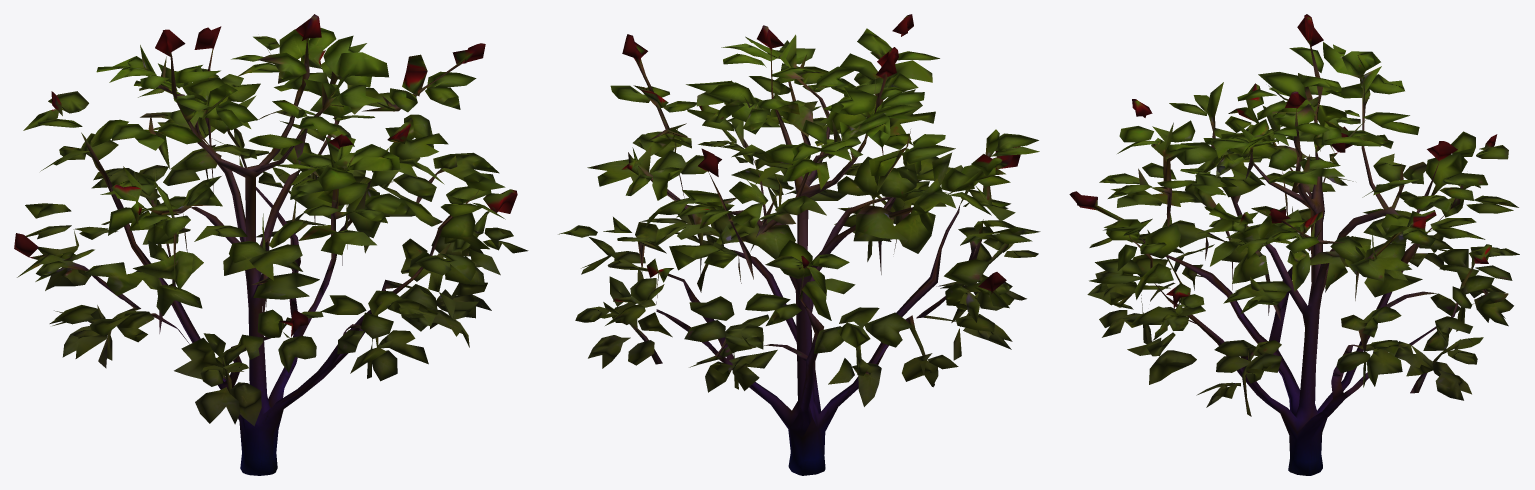
Rendered from environment.hibiscus-shrub-01.lod0.glb.
3 views of the same model, side by side, from view 1: azimuth 30°, elevation 25°; view 2: azimuth 150°, elevation 25°; view 3: azimuth 270°, elevation 25° (orthographic). The views are drawn at different scales.
Visible parts, largest first — view 1: environment.hibiscus-shrub-01_LOD0_00; view 2: environment.hibiscus-shrub-01_LOD0_00; view 3: environment.hibiscus-shrub-01_LOD0_00.
Part boxes in pixels (box(x1,y1,x2,y2)): environment.hibiscus-shrub-01_LOD0_00: box(14, 14, 528, 475); environment.hibiscus-shrub-01_LOD0_00: box(558, 14, 1040, 475); environment.hibiscus-shrub-01_LOD0_00: box(1069, 14, 1519, 475).
Size of the model in its own units: 1.1 by 1.1 by 1.09.
1 material, 1 textured.
